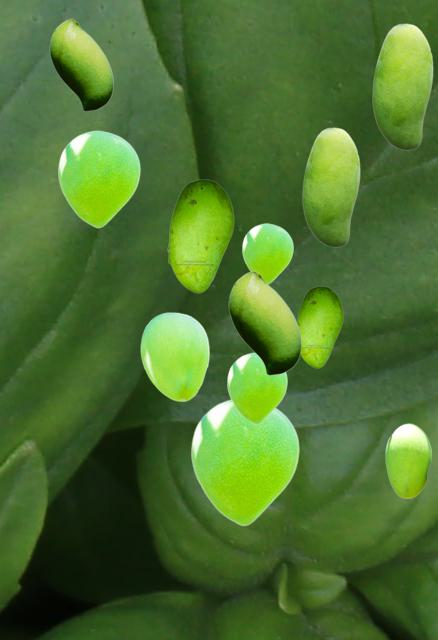green_mango: (191, 399, 298, 525), (58, 130, 139, 227), (372, 23, 432, 149), (228, 270, 300, 374), (167, 179, 233, 292), (302, 127, 359, 246), (140, 312, 208, 400), (49, 18, 112, 110), (227, 352, 286, 423), (297, 286, 342, 367), (385, 423, 430, 497), (242, 223, 292, 283)
